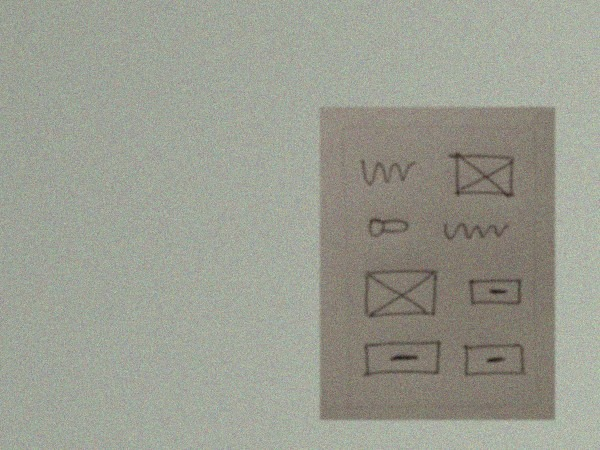button: (362, 339, 443, 380), (459, 340, 527, 382), (465, 274, 525, 313)
image: (359, 267, 443, 321), (444, 147, 520, 204)
switch: (365, 214, 412, 240)
text: (439, 216, 513, 246), (356, 154, 421, 187)
